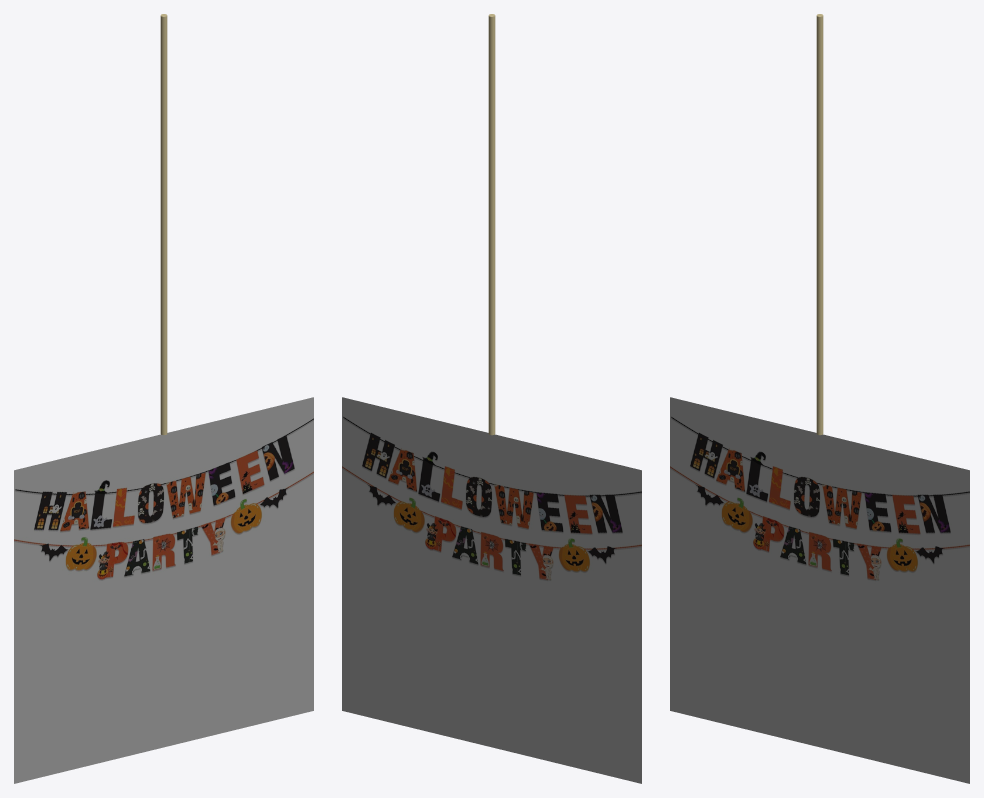
The picture shows the model from 3 angles, left to right: view 1: azimuth 30°, elevation 25°; view 2: azimuth 150°, elevation 25°; view 3: azimuth 330°, elevation 25°; orthographic projection.
Visible parts, largest first — view 1: photo, string; view 2: photo, string; view 3: photo, string.
Boxes of the visible parts, x1=… form: photo: x1=14, y1=397, x2=313, y2=783; string: x1=160, y1=14, x2=167, y2=435; photo: x1=342, y1=397, x2=641, y2=783; string: x1=488, y1=14, x2=495, y2=435; photo: x1=670, y1=397, x2=969, y2=783; string: x1=816, y1=14, x2=823, y2=435.
Bounding box in the file's own units: 0.3 × 0.7 × 0.006.
1 material, 1 textured.
